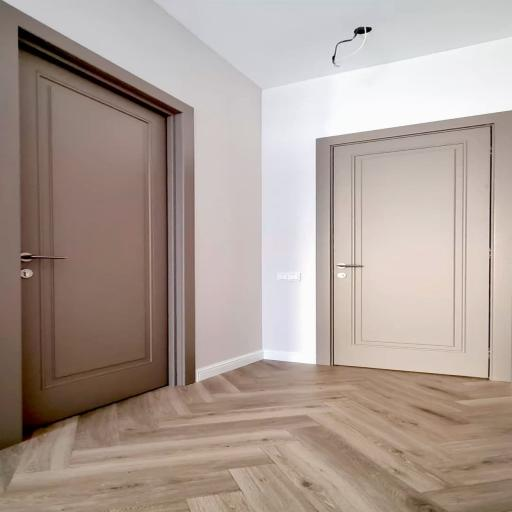child: (19, 51, 168, 426), (331, 127, 492, 378)
